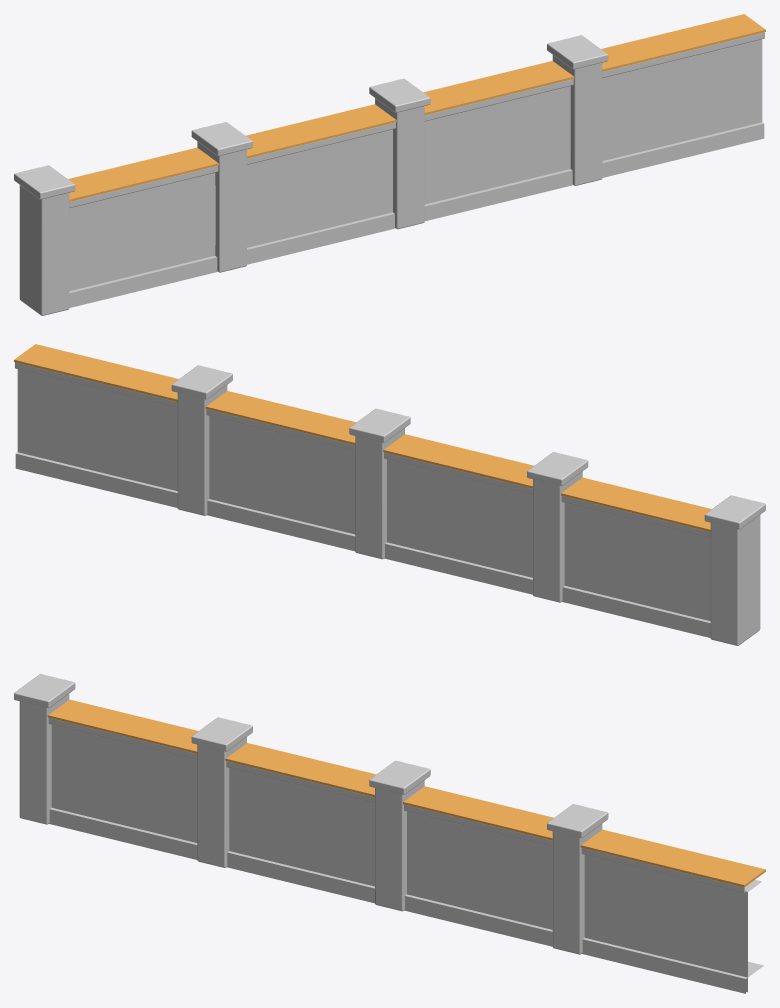
Rendered from CityWall.glb.
The picture shows the model from 3 angles, top to bottom: view 1: azimuth 30°, elevation 25°; view 2: azimuth 150°, elevation 25°; view 3: azimuth 330°, elevation 25°; orthographic projection.
Parts seen in each view (by area): view 1: Body, Glow; view 2: Body, Glow; view 3: Body, Glow.
Boxes of the visible parts, box(x1,y1,x2,y2) form: Body: box(14, 32, 764, 315); Glow: box(68, 14, 765, 201); Body: box(15, 362, 765, 645); Glow: box(14, 344, 711, 531); Body: box(14, 674, 763, 993); Glow: box(47, 699, 765, 887).
Bounding box in the file's own units: 41 × 6.8 × 2.6.
